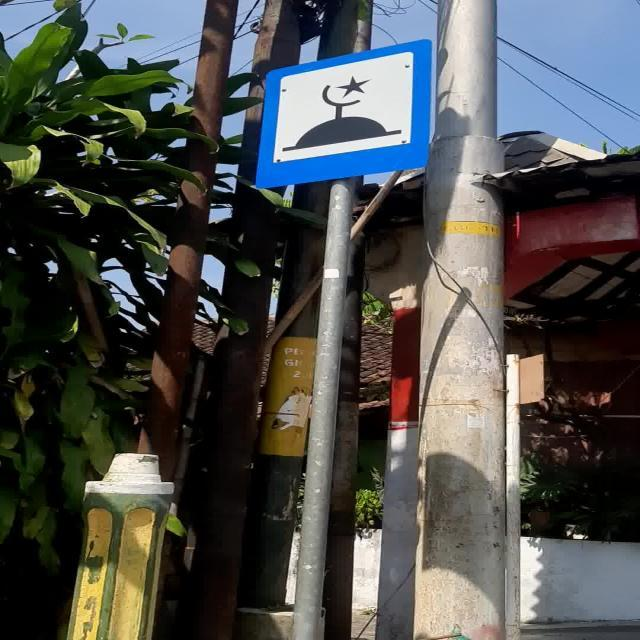Masjid: (254, 38, 433, 190)
